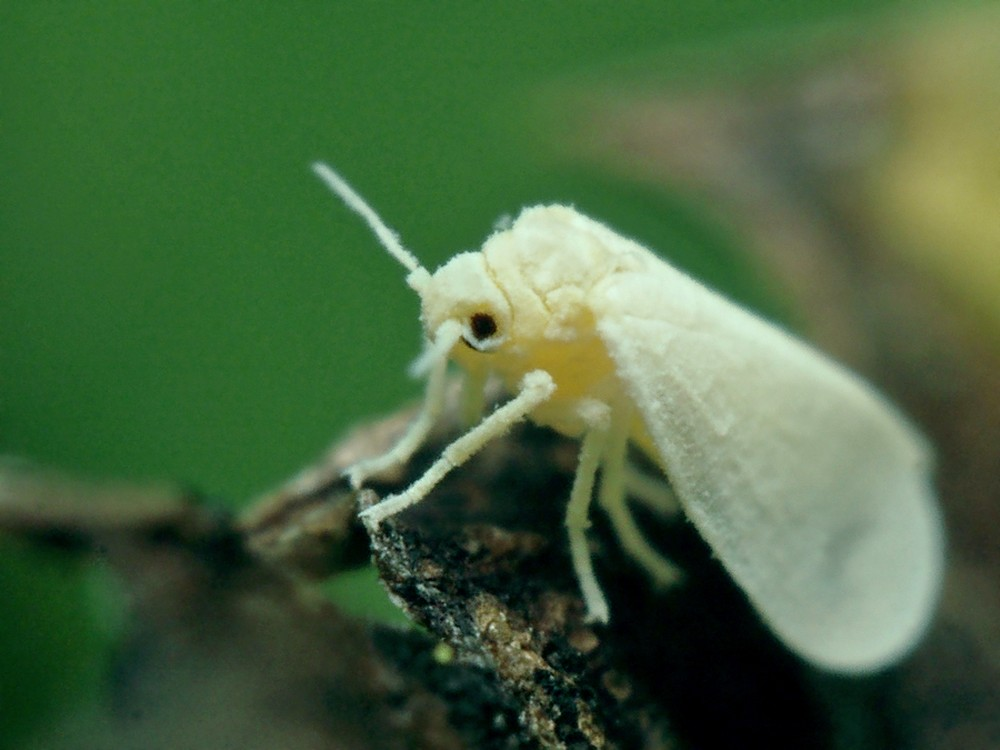Mosca Blanca: (303, 140, 962, 700)
